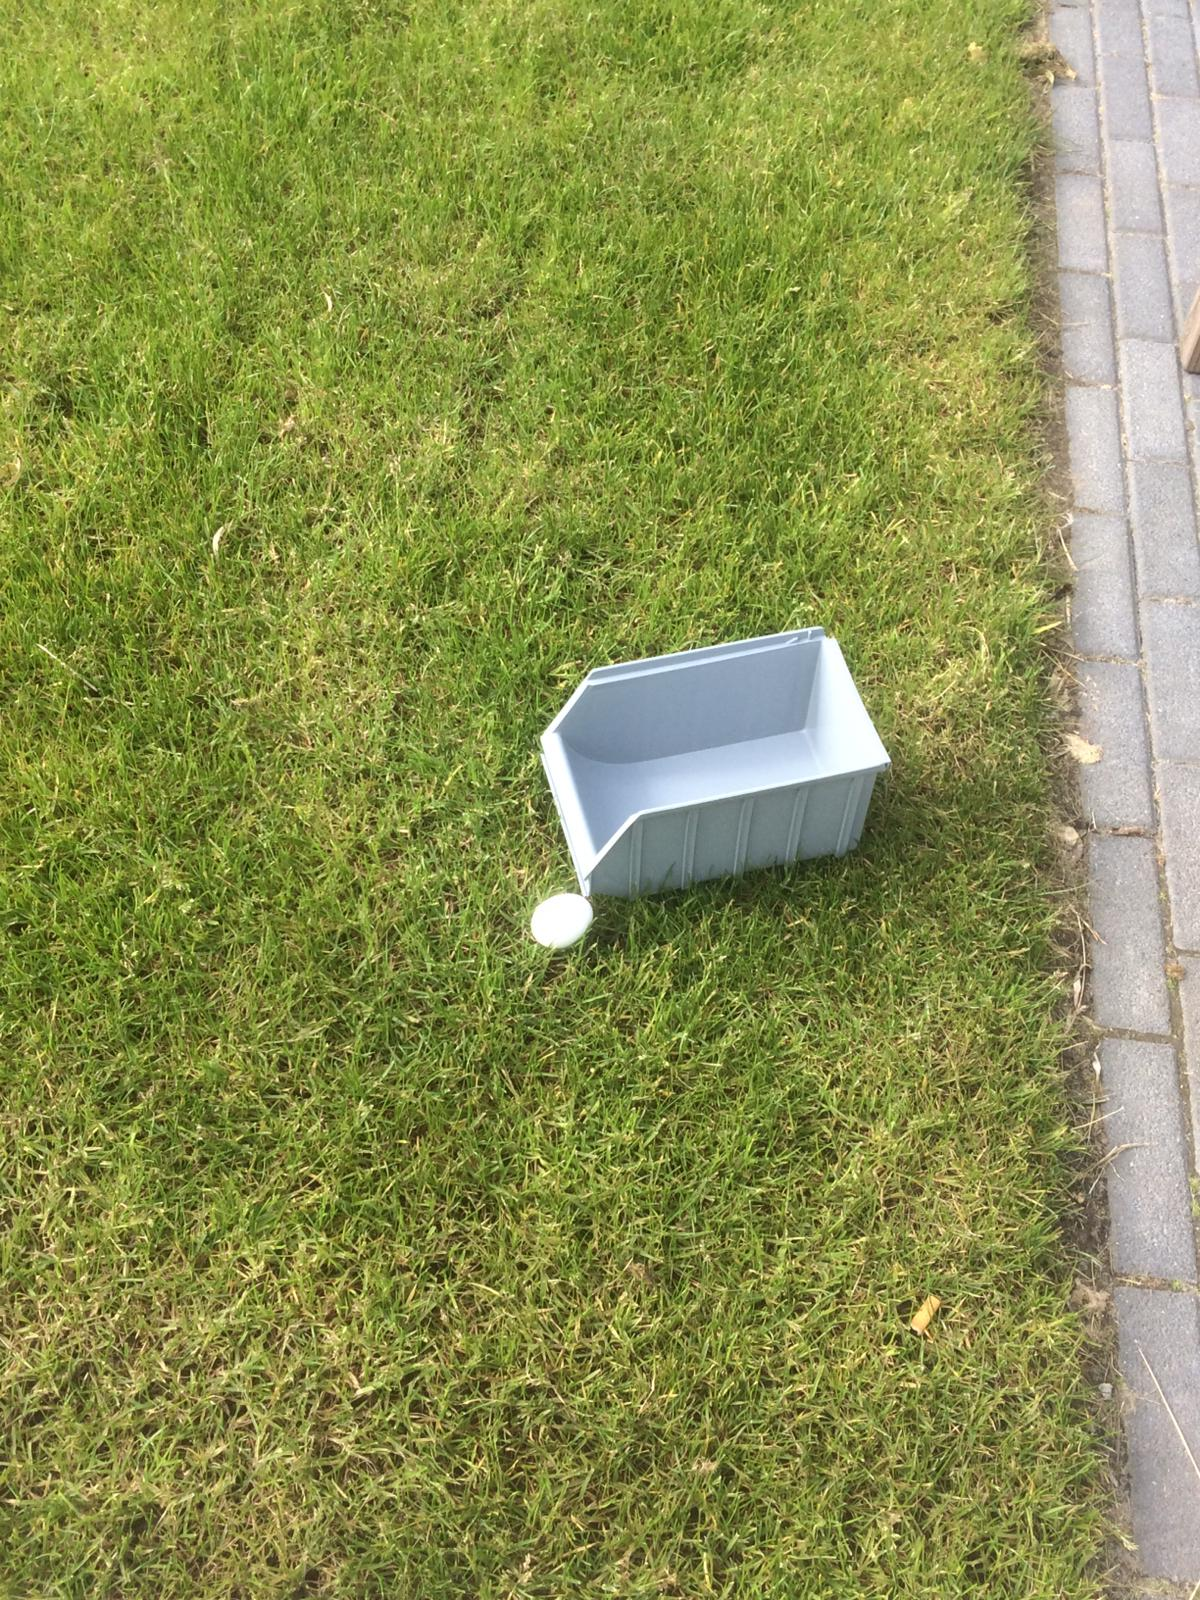egg: (518, 889, 599, 954)
tray_right: (581, 751, 900, 905)
